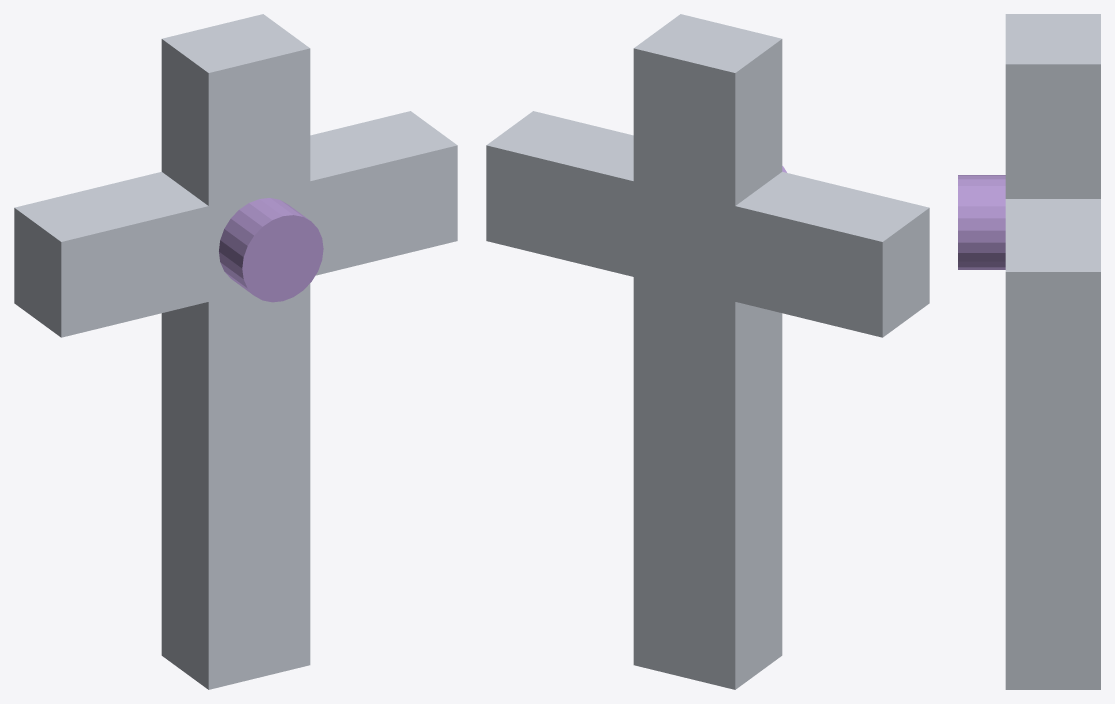
The model's file is ACC_Cross_Charm.glb.
3 renders of one model, left to right at view 1: azimuth 30°, elevation 25°; view 2: azimuth 150°, elevation 25°; view 3: azimuth 270°, elevation 25°, orthographic.
Visible parts, largest first — view 1: ACC_Cross_Charm_1, ACC_Cross_Charm_2, ACC_Cross_Charm_3; view 2: ACC_Cross_Charm_1, ACC_Cross_Charm_2; view 3: ACC_Cross_Charm_1, ACC_Cross_Charm_2, ACC_Cross_Charm_3.
Part boxes in pixels (<box>): ACC_Cross_Charm_1: <box>161,14,310,689</box>; ACC_Cross_Charm_2: <box>14,111,457,337</box>; ACC_Cross_Charm_3: <box>219,198,323,302</box>; ACC_Cross_Charm_1: <box>633,14,782,689</box>; ACC_Cross_Charm_2: <box>486,111,929,337</box>; ACC_Cross_Charm_1: <box>1005,14,1100,689</box>; ACC_Cross_Charm_2: <box>1005,199,1100,369</box>; ACC_Cross_Charm_3: <box>958,175,1005,269</box>.
Size of the model in its own units: 0.039 by 0.058 by 0.012.
